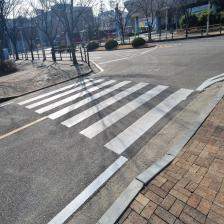crosswalk: (17, 77, 201, 150)
